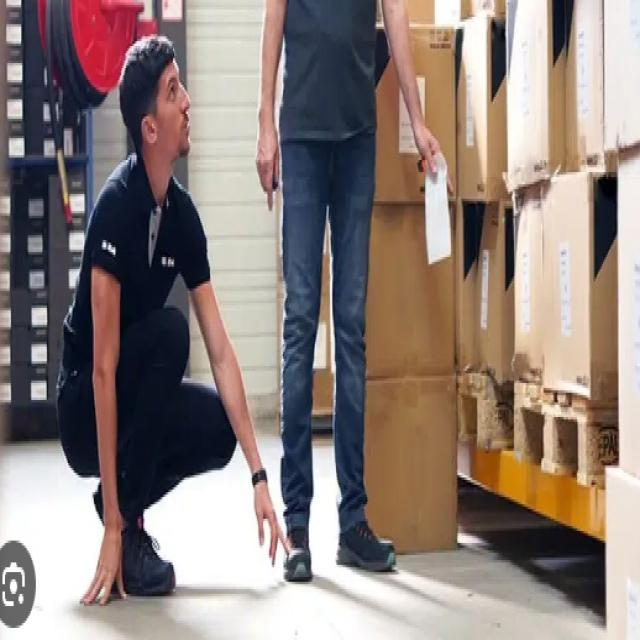shoes: (92, 476, 182, 604), (277, 498, 399, 588)
